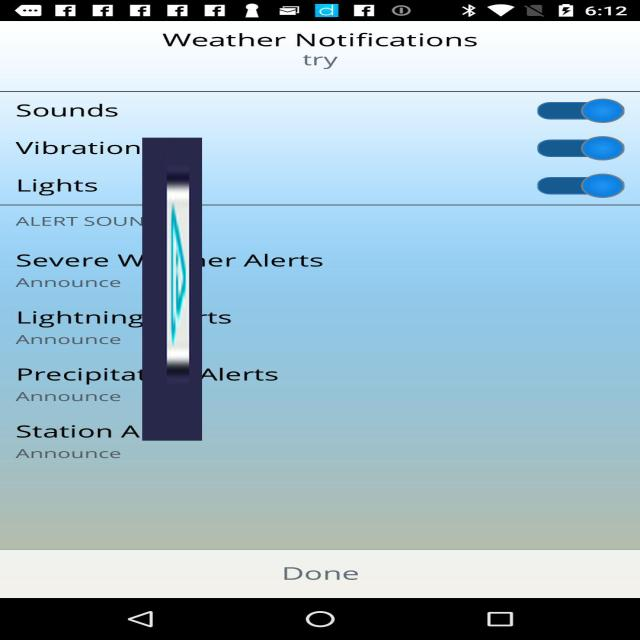sneaking: (142, 137, 202, 440)
